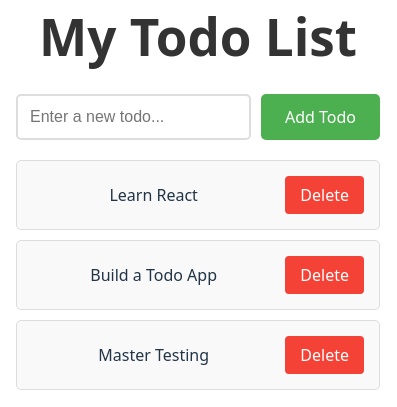
Scenario: TodoList Component › shows empty message when all todos are deleted
Click the button "Delete" next to "Learn React": (325, 195) [285,176,364,214]
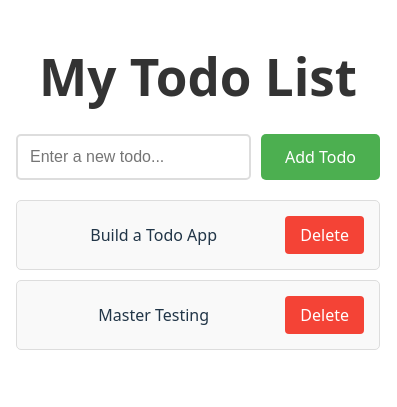
Click the button "Delete" next to "Build a Todo App": (325, 235) [285,216,364,254]
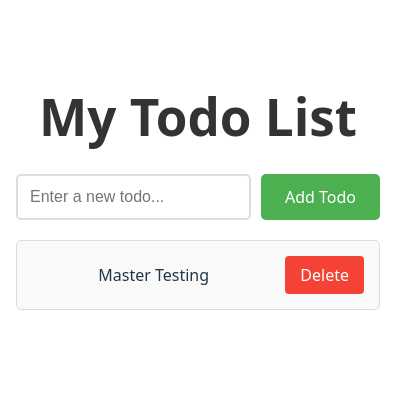
Click the button "Delete": (325, 275) [285,256,364,294]
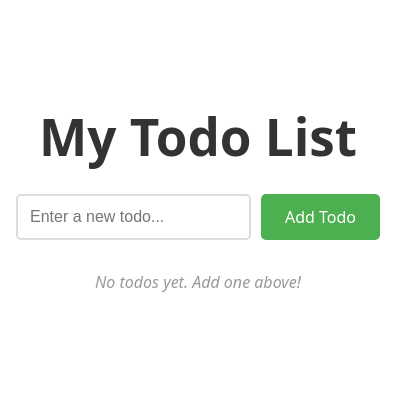
expect the text "No todos yet. Add one above!" is shown: met, box [95,271,301,293]
